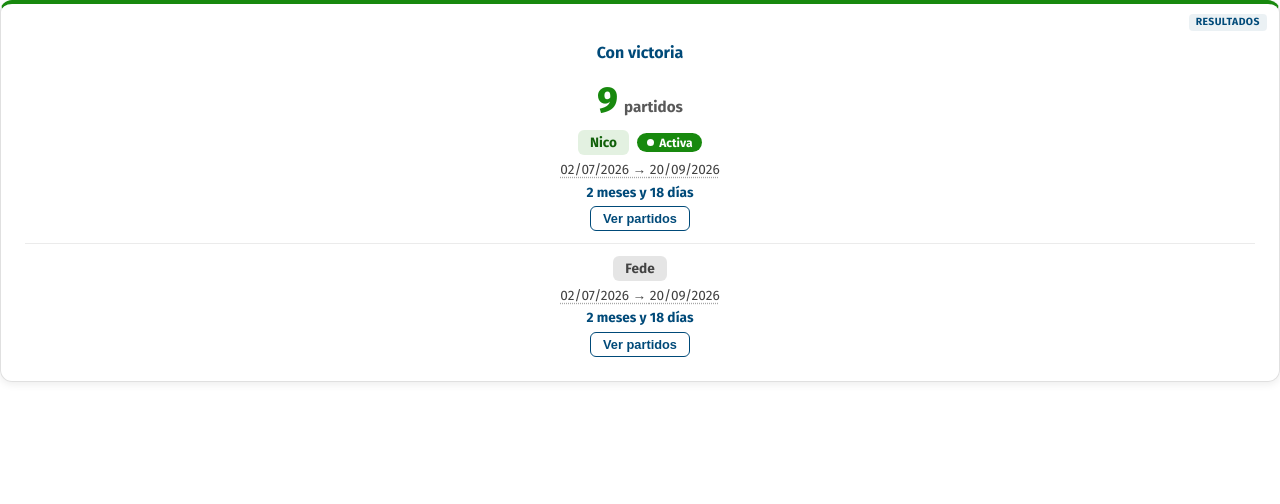
empate: partidos detrás de "Ver partidos"
Click the button "Ver partidos" below "Nico": (640,219) [590,206,690,231]
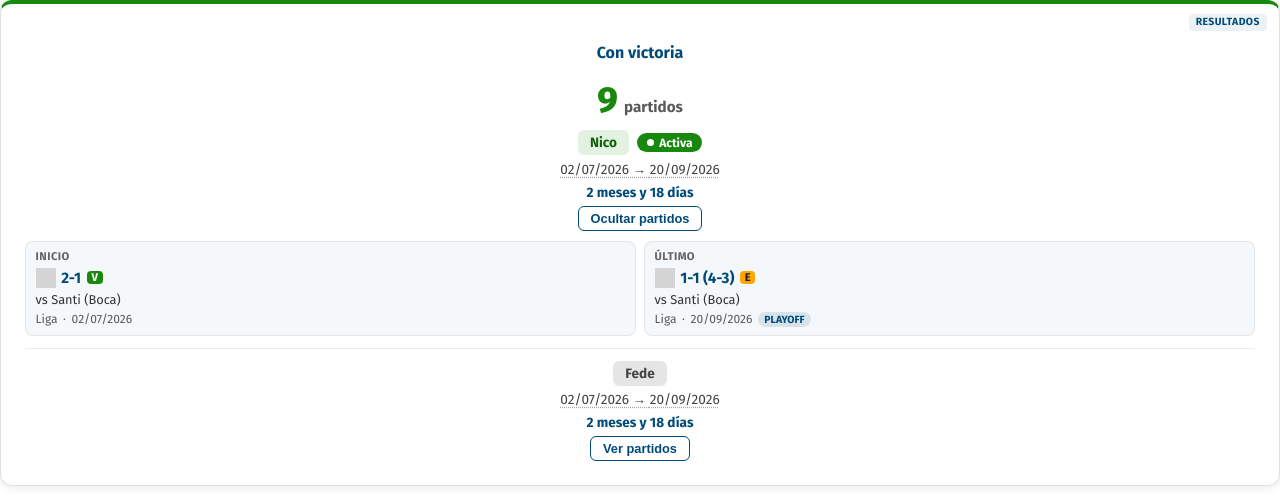
Expected: the button "Ocultar partidos" is expanded, [578,206,702,231]
